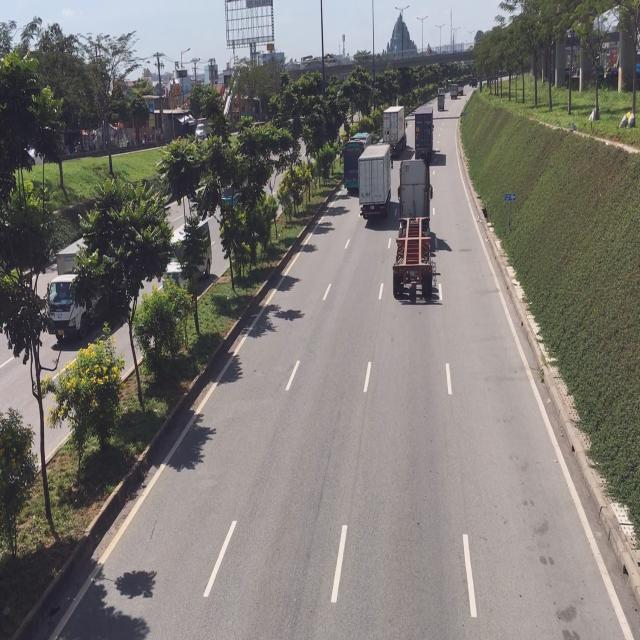bus: (340, 132, 366, 192)
truck: (393, 158, 436, 302), (358, 146, 391, 222), (382, 105, 408, 159), (415, 110, 433, 162)
